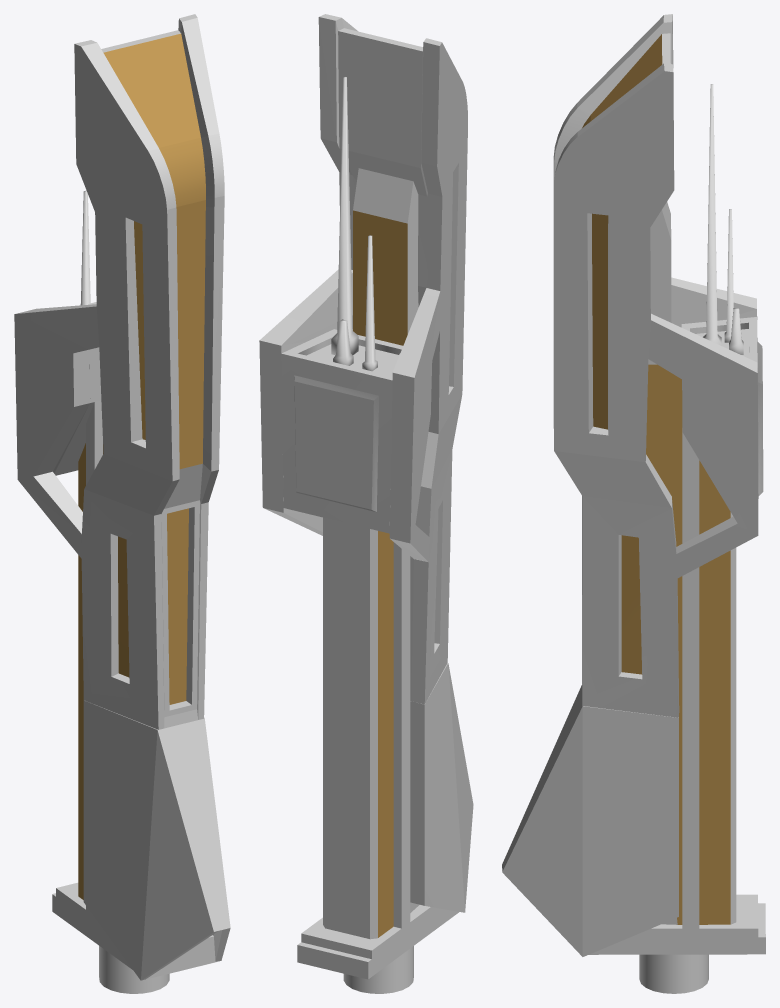
File: skyscraper_3.fbx
3 renders of one model, left to right at view 1: azimuth 30°, elevation 25°; view 2: azimuth 150°, elevation 25°; view 3: azimuth 270°, elevation 25°, orthographic.
Visible parts, largest first — view 1: Skyscraper 2, Cylinder.001; view 2: Skyscraper 2, Cylinder.001; view 3: Skyscraper 2, Cylinder.001.
Boxes of the visible parts, x1,y1,x2,y2 form: Skyscraper 2: [14, 14, 230, 980]; Cylinder.001: [99, 946, 169, 993]; Skyscraper 2: [259, 14, 473, 979]; Cylinder.001: [343, 946, 413, 993]; Skyscraper 2: [502, 14, 765, 956]; Cylinder.001: [639, 954, 708, 993].
Size of the model in its own units: 1520 by 8897 by 2271.
